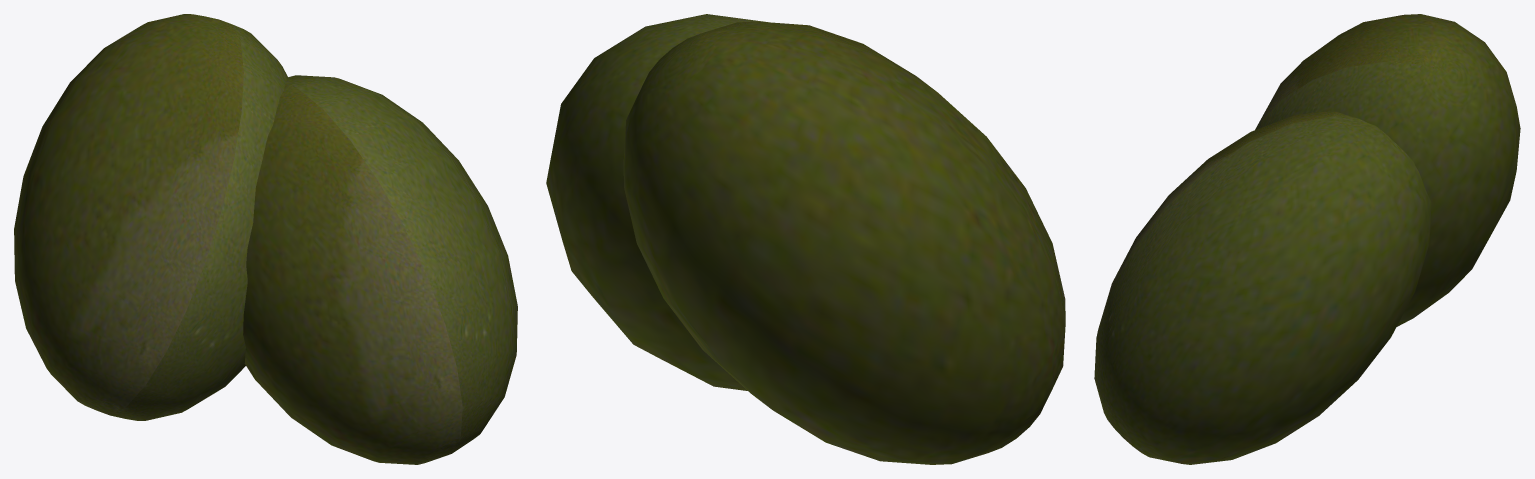
File: Olive.fbx
3 views of the same model, side by side, from view 1: azimuth 30°, elevation 25°; view 2: azimuth 150°, elevation 25°; view 3: azimuth 270°, elevation 25° (orthographic). The views are drawn at different scales.
Visible parts, largest first — view 1: Sphere; view 2: Sphere; view 3: Sphere.
Boxes of the visible parts, bbox=[...] form: Sphere: bbox=[14, 14, 517, 464]; Sphere: bbox=[546, 14, 1065, 464]; Sphere: bbox=[1094, 14, 1520, 464].
Size of the model in its own units: 18.8 by 16.27 by 16.85.
